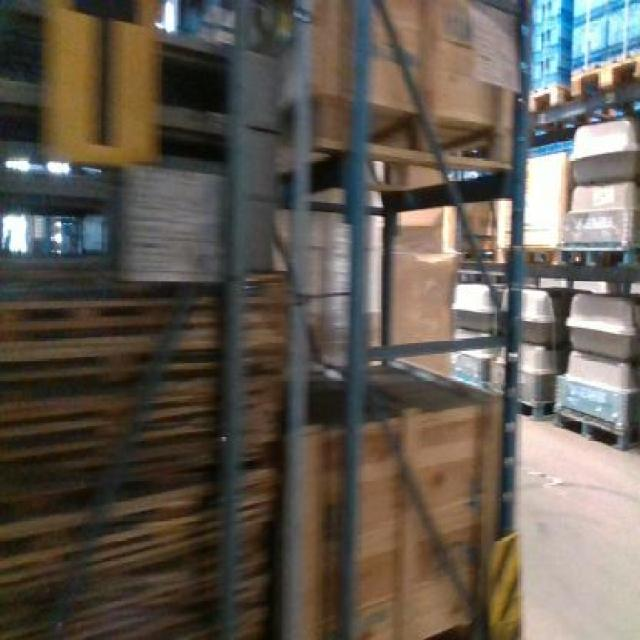ground: (519, 416, 638, 638)
pallet: (312, 90, 515, 170), (553, 406, 631, 453), (567, 52, 638, 101), (556, 239, 638, 271), (527, 80, 564, 114), (514, 397, 557, 424)
